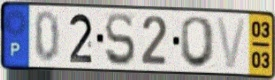0: (33, 9, 62, 65)
2: (140, 14, 170, 68), (68, 12, 94, 65)
O: (178, 15, 217, 70)
S: (104, 11, 138, 69)
V: (214, 16, 249, 71)
